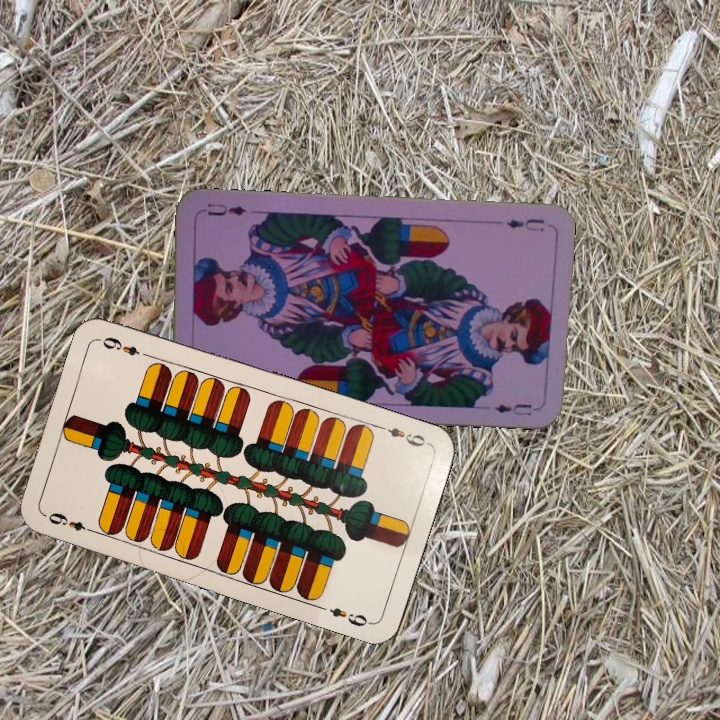E9: (374, 421, 432, 450), (40, 508, 98, 536)
EU: (502, 215, 547, 234)
